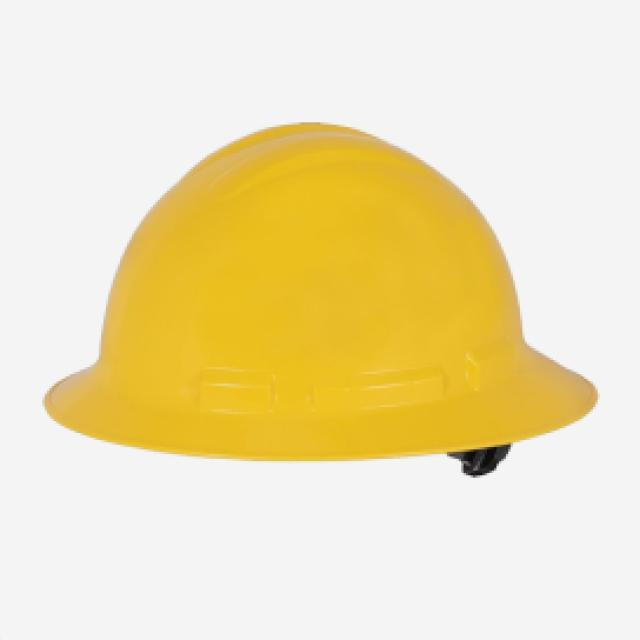helmet: (12, 95, 595, 491)
